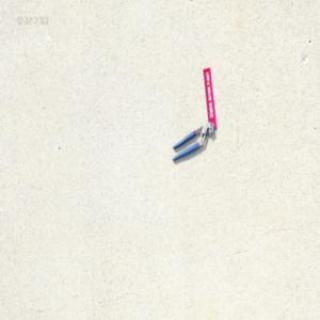LuggageTagtrack_idkeyframe: (202, 67, 216, 128)
Pliertrack_idkeyframe: (170, 119, 213, 162)
